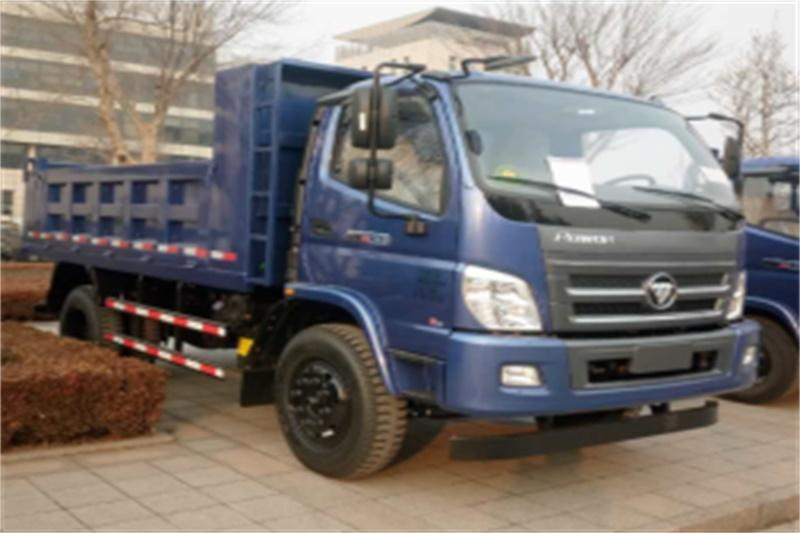truck: (13, 32, 754, 485)
